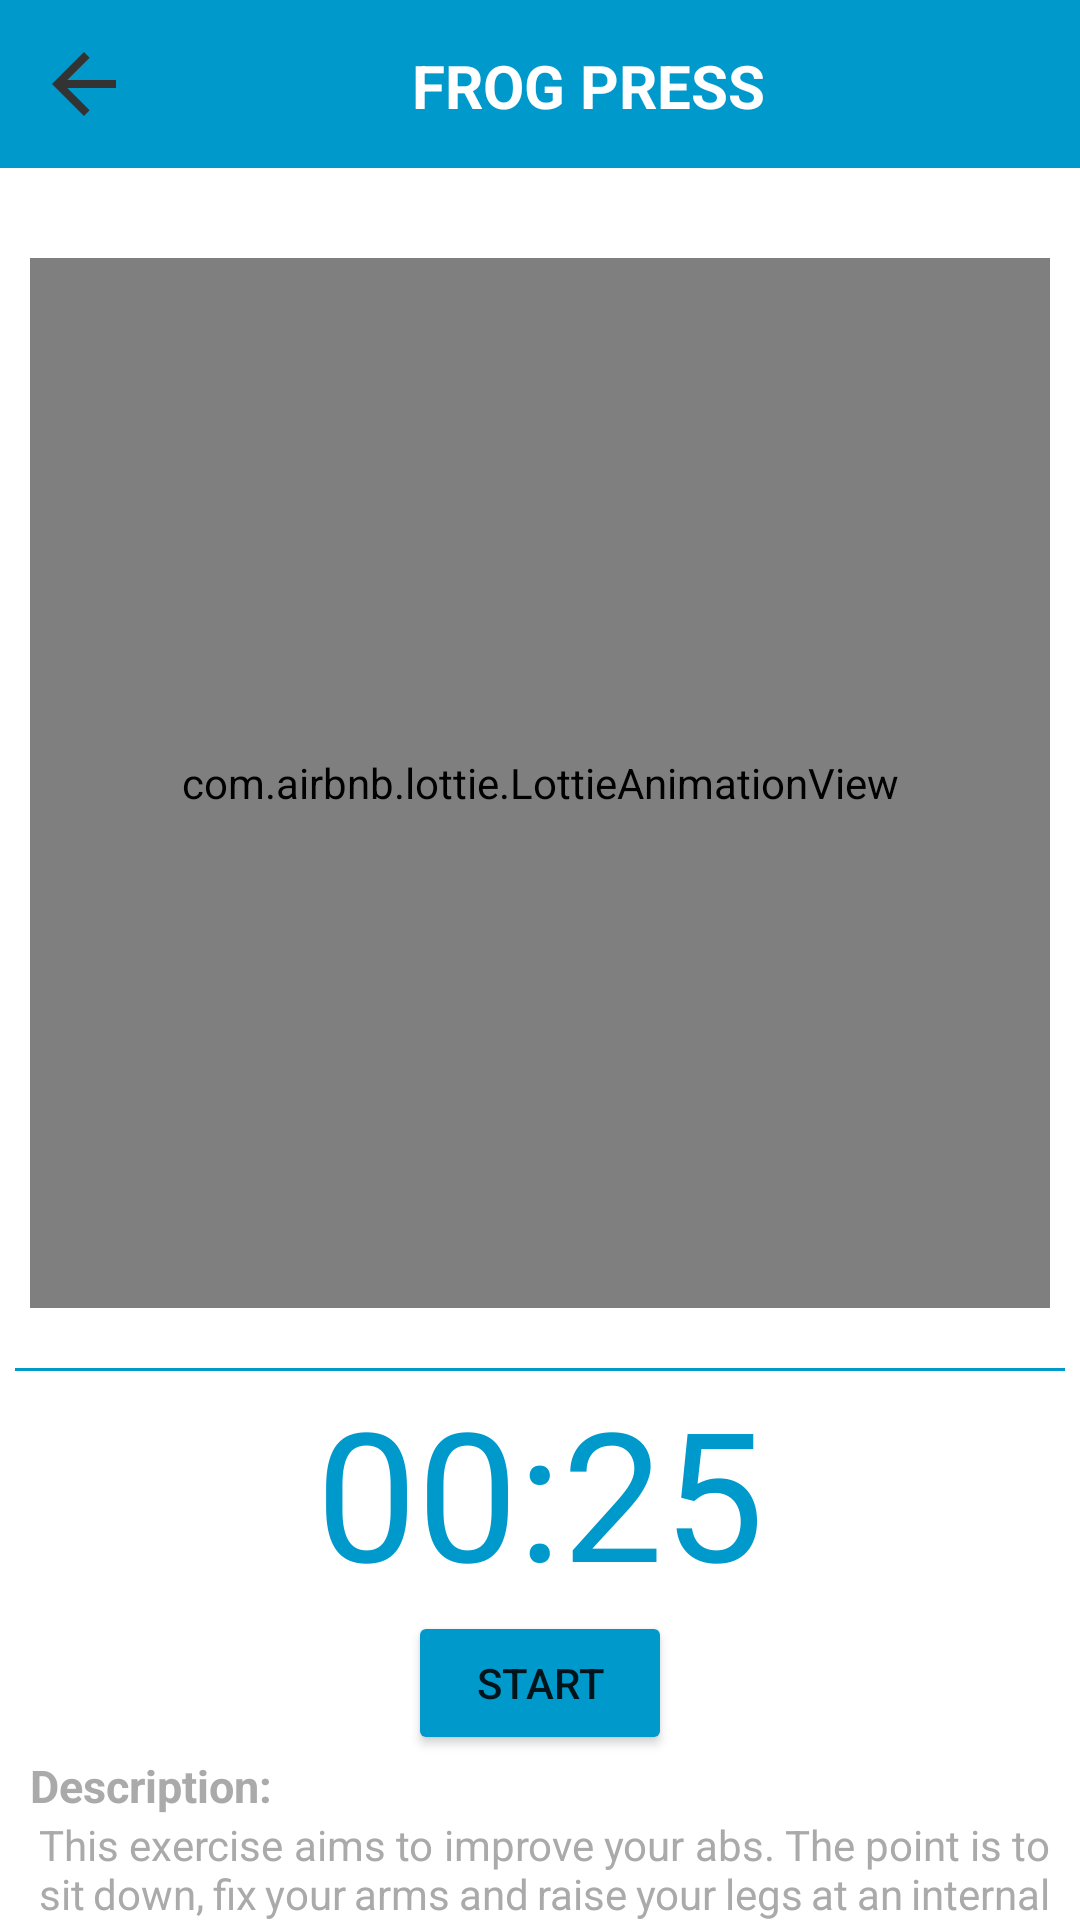

Named icons in this screenshot (1080px×1920px) and their bounding boxes, (left=x1, top=y1, right=x2, bottom=y2):
back arrow: (left=52, top=52, right=116, bottom=116)
